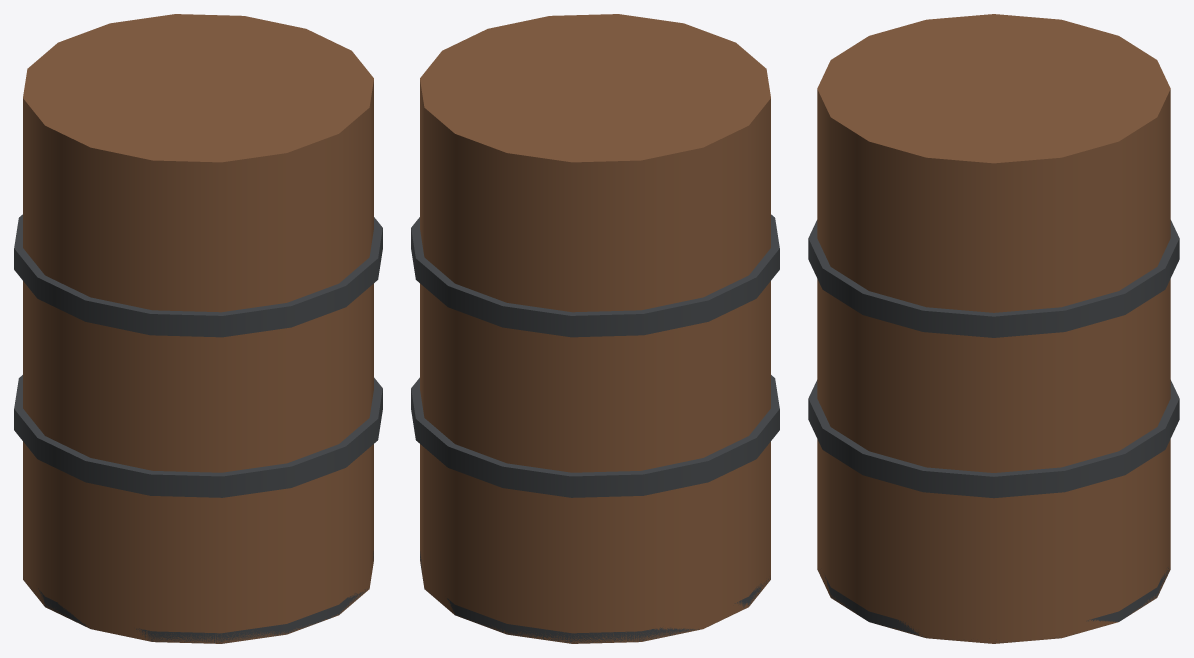
Rendered from ZR_Barrel_Rust.fbx.
The picture shows the model from 3 angles, left to right: view 1: azimuth 30°, elevation 25°; view 2: azimuth 150°, elevation 25°; view 3: azimuth 270°, elevation 25°; orthographic projection.
Visible parts, largest first — view 1: ZR_Barrel_Rust; view 2: ZR_Barrel_Rust; view 3: ZR_Barrel_Rust.
Boxes of the visible parts, x1,y1,x2,y2 form: ZR_Barrel_Rust: (14,14,382,643); ZR_Barrel_Rust: (411,14,779,643); ZR_Barrel_Rust: (808,14,1179,643).
Bounding box in the file's own units: 0.63 × 0.9 × 0.63.
